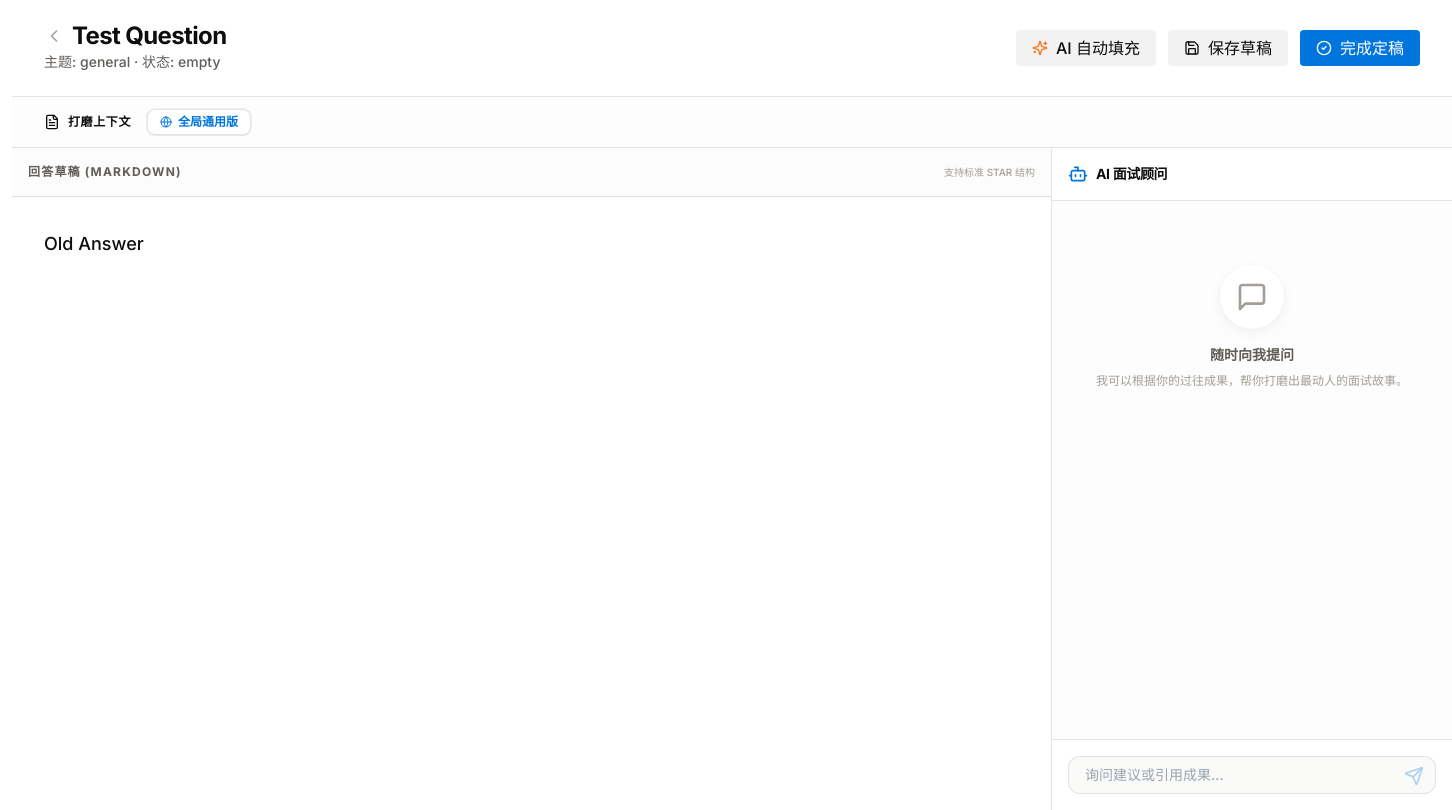
Test: StoryWorkspace Frontend Logic Verification › should show user message immediately after sending
In the field with placeholder "询问建议或引用成果...": point(1252, 775) [1068,756,1436,794], type "Hello AI"
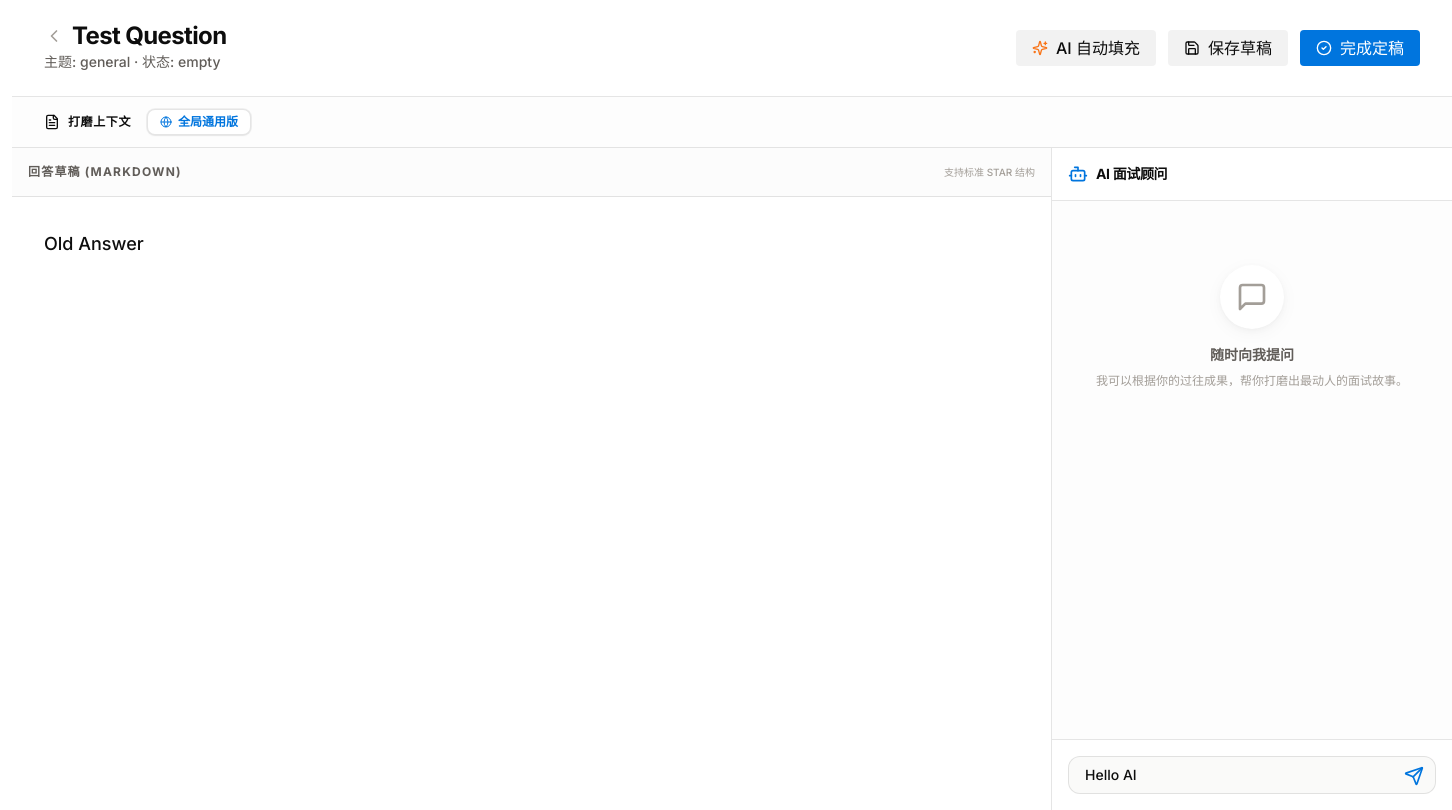
Click the 6th button: point(1414, 776) [1400,762,1428,790]
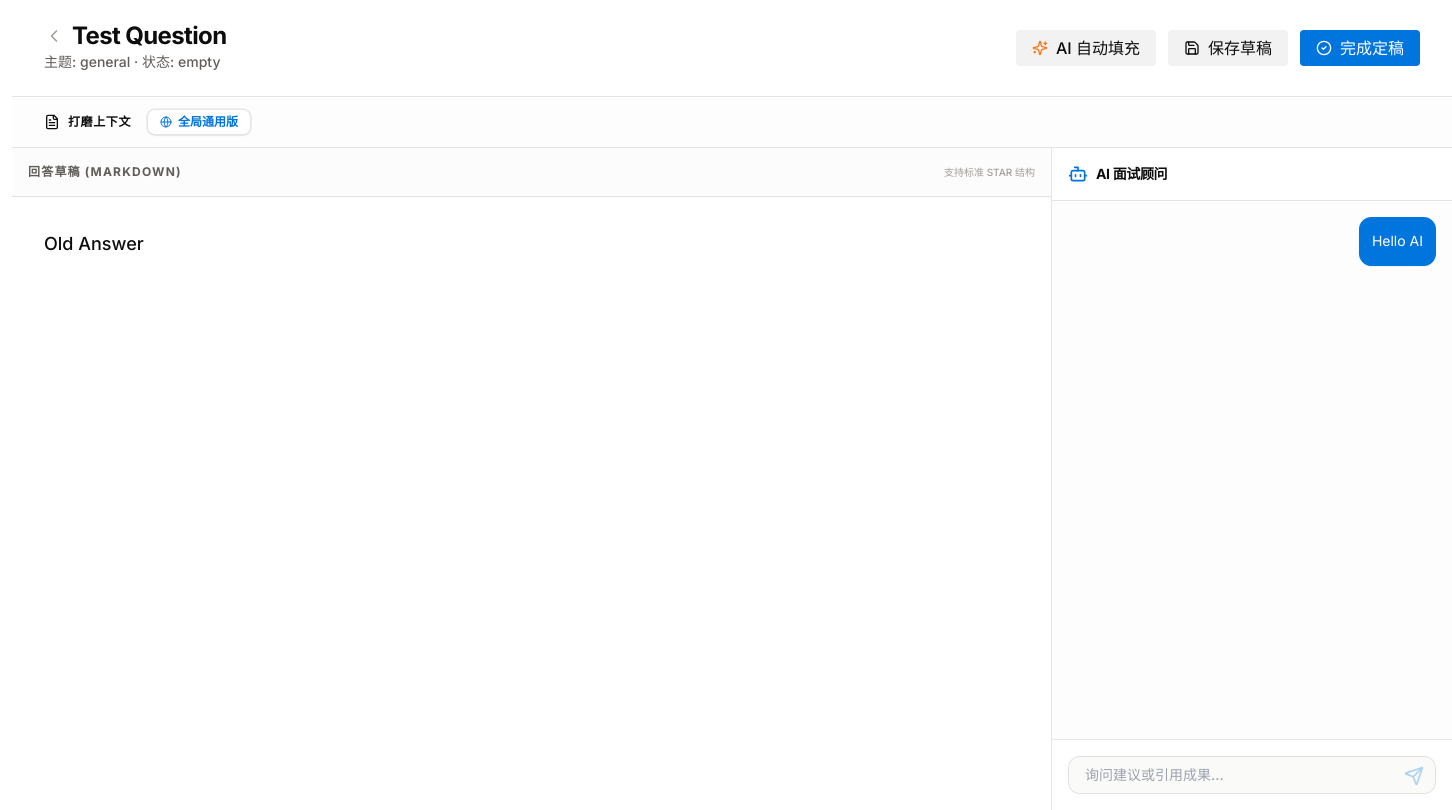
Result: the text "Hello AI" is shown at [1372,230,1423,253]
